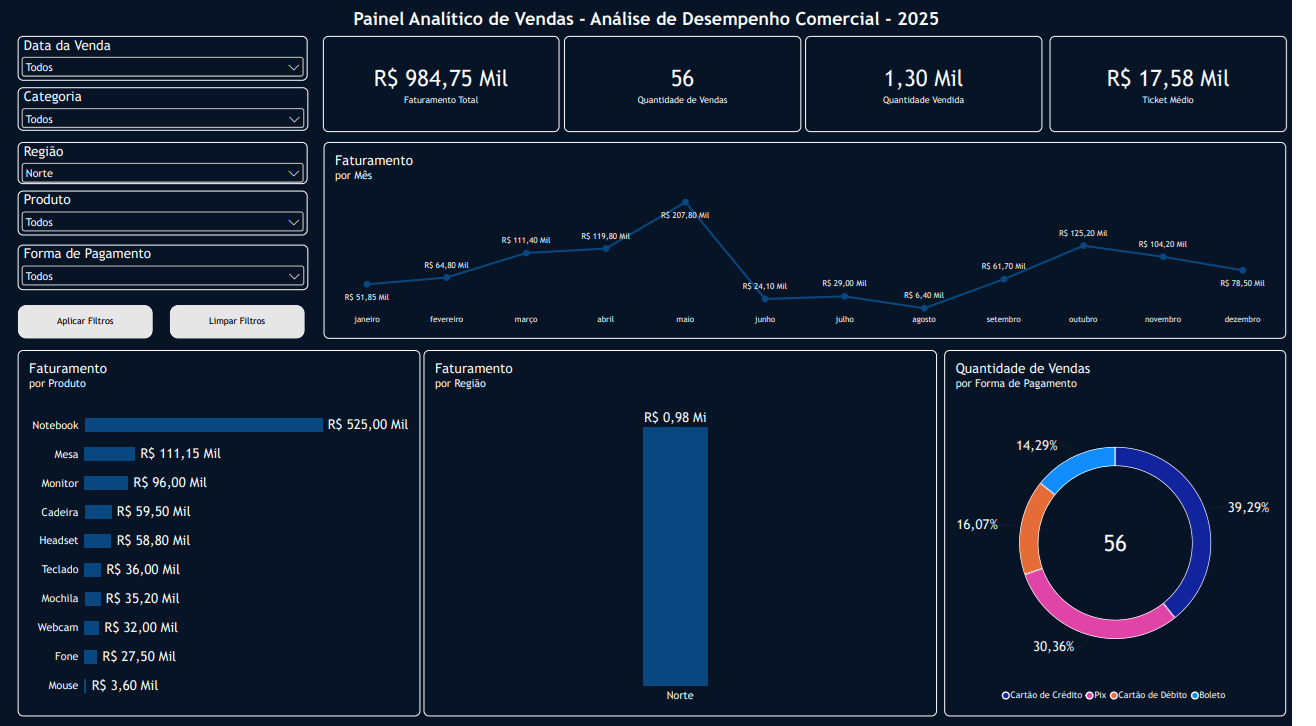

The page's visual inventory and layout, read from the dashboard file:
{"tool":"powerbi","page":{"name":"Página 1","canvas":[1920,1080],"ordinal":0},"visuals":[{"type":"card","fields":{"Values":["Medidas.Faturamento_total"]},"box":[481,55.7,350,142.5],"z":0},{"type":"card","fields":{"Values":["Medidas.Quantidade de Vendas"]},"box":[838.2,55.7,351,142.5],"z":1000},{"type":"card","fields":{"Values":["Medidas.Quantidade Vendida"]},"box":[1195.4,55.7,351,142.5],"z":2000},{"type":"card","fields":{"Values":["Medidas.Ticket Médio"]},"box":[1556.6,55.7,351,142.5],"z":3000},{"type":"lineChart","title":"Faturamento","fields":{"Category":["vendas_limpa.Mes_Ano.Variation.Hierarquia de datas.Mês"],"Y":["Medidas.Faturamento Total"]},"box":[481.6,212.6,1425.9,291.9],"z":4000},{"type":"clusteredBarChart","title":"Faturamento","fields":{"Category":["vendas_limpa.Produto"],"Y":["Medidas.Faturamento Total"]},"box":[29.2,521.2,596.2,542],"z":5000},{"type":"clusteredColumnChart","title":"Faturamento","fields":{"Category":["vendas_limpa.Regiao"],"Y":["Medidas.Faturamento Total"]},"box":[629.6,521.2,760.9,542],"z":6000},{"type":"slicer","fields":{"Values":["vendas_limpa.Data_Venda"]},"box":[28.9,55.7,429.4,66.1],"z":7000},{"type":"slicer","fields":{"Values":["vendas_limpa.Categoria"]},"box":[29.5,131.6,430,64.8],"z":8000},{"type":"slicer","fields":{"Values":["vendas_limpa.Regiao"]},"box":[28.9,212.6,429.4,61.9],"z":9000},{"type":"slicer","fields":{"Values":["vendas_limpa.Produto"]},"box":[28.9,284.9,429.4,66.1],"z":10000},{"type":"donutChart","title":"Quantidade de Vendas","fields":{"Category":["vendas_limpa.Forma_Pagamento"],"Y":["Medidas.Quantidade de Vendas"]},"box":[1400.9,521.2,506.6,542],"z":11000},{"type":"textbox","box":[487.7,13.7,944.5,82.5],"z":12000},{"type":"slicer","fields":{"Values":["vendas_limpa.Forma_Pagamento"]},"box":[29.5,365.2,430,66.8],"z":13000},{"type":"actionButton","box":[28.9,454.2,200,50],"z":14000},{"type":"actionButton","box":[253.9,454.2,200.3,49.5],"z":15000}]}

Visuals, with their boxes in screenshot pixels (x1, y1, x2, y2), scaled from the page's 1920x1080 canvas onto the 1316x726 screenshot:
card - Medidas.Faturamento_total: rect(330, 37, 570, 133)
card - Medidas.Quantidade de Vendas: rect(575, 37, 815, 133)
card - Medidas.Quantidade Vendida: rect(819, 37, 1060, 133)
card - Medidas.Ticket Médio: rect(1067, 37, 1308, 133)
"Faturamento" lineChart: rect(330, 143, 1307, 339)
"Faturamento" clusteredBarChart: rect(20, 350, 429, 715)
"Faturamento" clusteredColumnChart: rect(432, 350, 953, 715)
slicer - vendas_limpa.Data_Venda: rect(20, 37, 314, 82)
slicer - vendas_limpa.Categoria: rect(20, 88, 315, 132)
slicer - vendas_limpa.Regiao: rect(20, 143, 314, 185)
slicer - vendas_limpa.Produto: rect(20, 192, 314, 236)
"Quantidade de Vendas" donutChart: rect(960, 350, 1307, 715)
textbox: rect(334, 9, 982, 65)
slicer - vendas_limpa.Forma_Pagamento: rect(20, 245, 315, 290)
actionButton: rect(20, 305, 157, 339)
actionButton: rect(174, 305, 311, 339)
